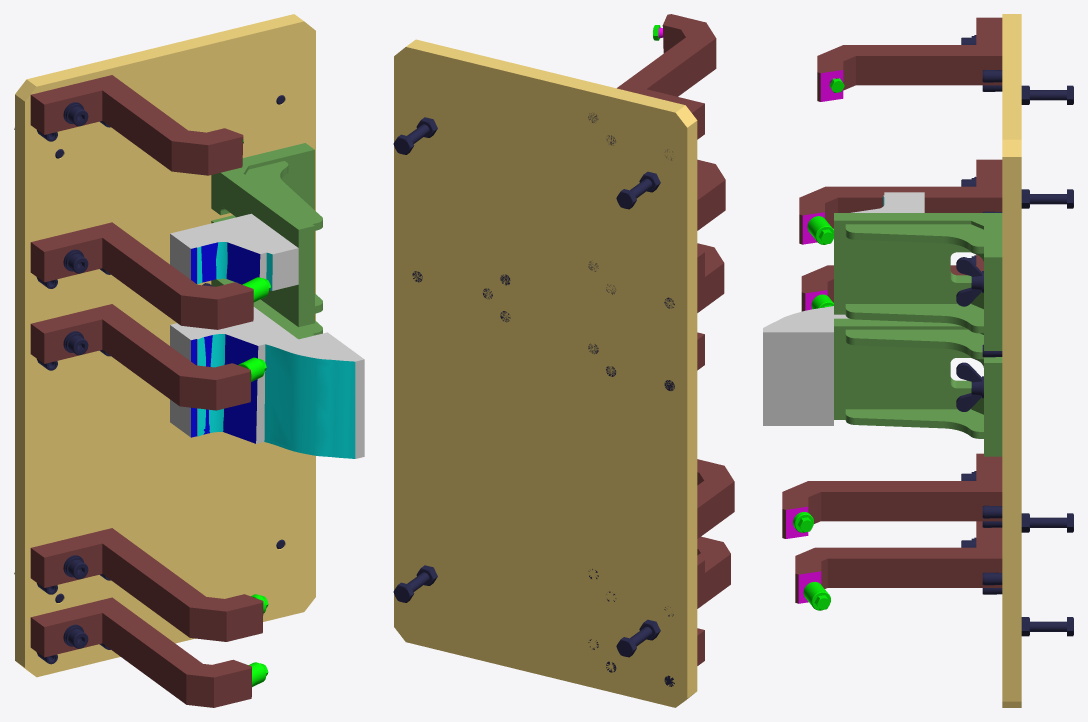
File: AM145842_Y0C_CURTAIN_K00_260325_KEN.obj
The picture shows the model from 3 angles, left to right: view 1: azimuth 30°, elevation 25°; view 2: azimuth 150°, elevation 25°; view 3: azimuth 270°, elevation 25°; orthographic projection. The views are drawn at different scales.
Parts seen in each view (by area): view 1: Shell_000, Shell_049, Shell_037, Shell_051, Shell_032, Shell_042, Shell_060, Shell_056, Shell_048, Shell_057, Shell_059, Shell_058 (+1 smaller); view 2: Shell_000, Shell_060, Shell_037, Shell_032, Shell_051, Shell_042, Shell_001, Shell_004, Shell_003, Shell_002; view 3: Shell_000, Shell_050, Shell_056, Shell_059, Shell_047, Shell_037, Shell_032, Shell_060, Shell_049, Shell_051, Shell_042, Shell_057 (+8 smaller).
Boxes of the visible parts, x1=… form: Shell_000: x1=15, y1=14, x2=315, y2=677; Shell_049: x1=197, y1=310, x2=364, y2=458; Shell_037: x1=30, y1=528, x2=263, y2=641; Shell_051: x1=30, y1=222, x2=253, y2=329; Shell_032: x1=30, y1=597, x2=251, y2=707; Shell_042: x1=30, y1=304, x2=250, y2=410; Shell_060: x1=30, y1=75, x2=243, y2=175; Shell_056: x1=211, y1=143, x2=314, y2=312; Shell_048: x1=170, y1=307, x2=273, y2=443; Shell_057: x1=170, y1=213, x2=281, y2=284; Shell_059: x1=225, y1=161, x2=322, y2=327; Shell_058: x1=183, y1=225, x2=298, y2=290; Shell_000: x1=394, y1=39, x2=697, y2=707; Shell_060: x1=617, y1=14, x2=716, y2=139; Shell_037: x1=697, y1=459, x2=734, y2=595; Shell_032: x1=697, y1=536, x2=730, y2=665; Shell_051: x1=697, y1=159, x2=725, y2=287; Shell_042: x1=697, y1=243, x2=724, y2=370; Shell_001: x1=393, y1=572, x2=429, y2=602; Shell_004: x1=393, y1=124, x2=429, y2=154; Shell_003: x1=616, y1=178, x2=652, y2=209; Shell_002: x1=616, y1=627, x2=652, y2=657; Shell_000: x1=1002, y1=14, x2=1021, y2=707; Shell_050: x1=834, y1=318, x2=1002, y2=456; Shell_056: x1=871, y1=213, x2=1002, y2=350; Shell_059: x1=834, y1=213, x2=1002, y2=350; Shell_047: x1=871, y1=320, x2=1002, y2=456; Shell_037: x1=782, y1=453, x2=1002, y2=538; Shell_032: x1=795, y1=521, x2=1002, y2=603; Shell_060: x1=817, y1=17, x2=1002, y2=101; Shell_049: x1=763, y1=306, x2=848, y2=425; Shell_051: x1=799, y1=159, x2=1002, y2=244; Shell_042: x1=801, y1=254, x2=983, y2=311; Shell_057: x1=851, y1=192, x2=924, y2=212.
Size of the model in its own units: 250 by 485 by 240.
